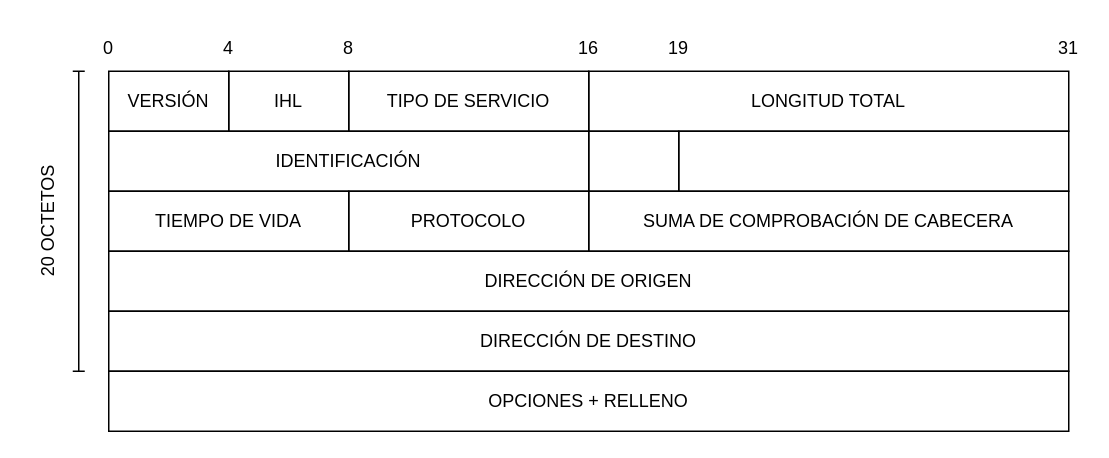
This 1109x458 diagram has some shape labels left out. The centre of each missing label's shape, as x and y in pixels:
DESPLAZAMIENTO DEL FRAGMENTO: the point at 873,160
FLAGS: the point at 633,160
